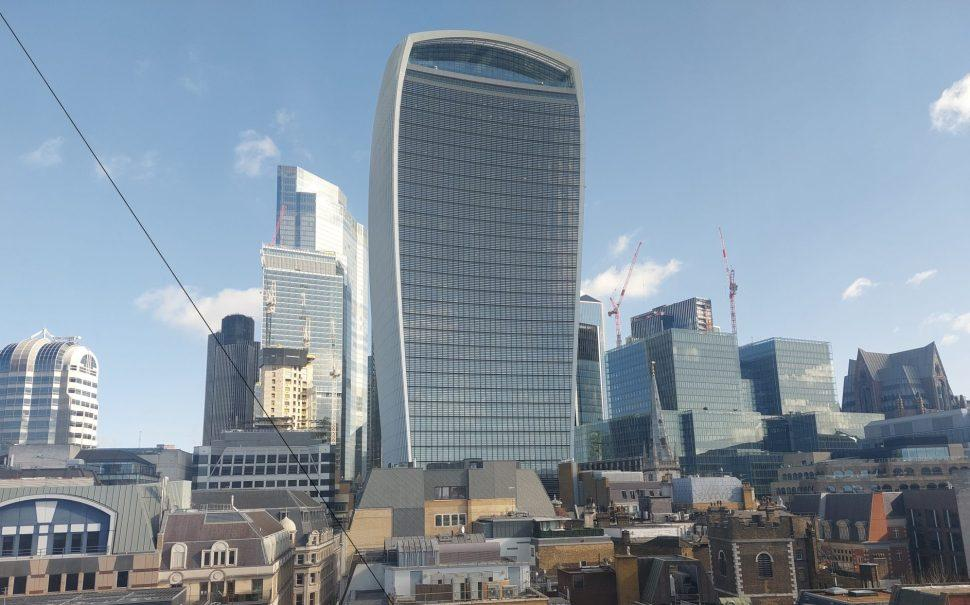Walkie talkie: (357, 22, 594, 467)
